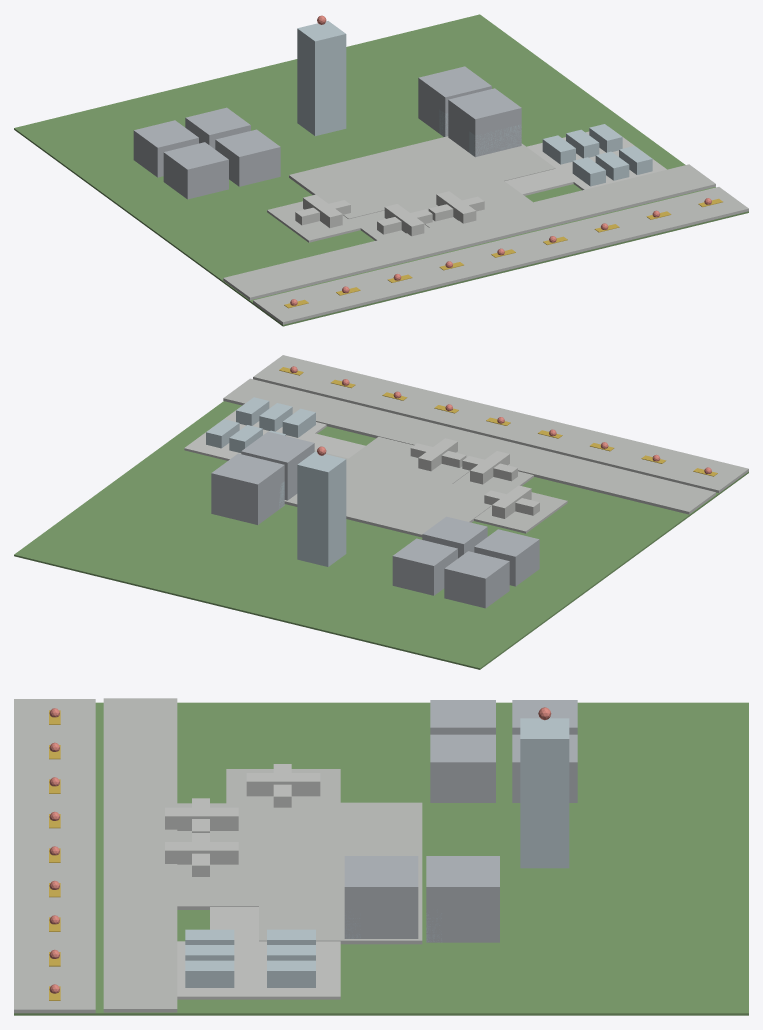
The model's file is stage_18.glb.
3 views of the same model, one above another, from view 1: azimuth 30°, elevation 25°; view 2: azimuth 150°, elevation 25°; view 3: azimuth 270°, elevation 25° (orthographic). The views are drawn at different scales.
Visible parts, largest first — view 1: geometry_0; view 2: geometry_0; view 3: geometry_0.
Part boxes in pixels (<box>): geometry_0: <box>14,14,748,326</box>; geometry_0: <box>14,355,748,669</box>; geometry_0: <box>14,698,748,1015</box>.
Bounding box in the file's own units: 9 × 2.06 × 9.
